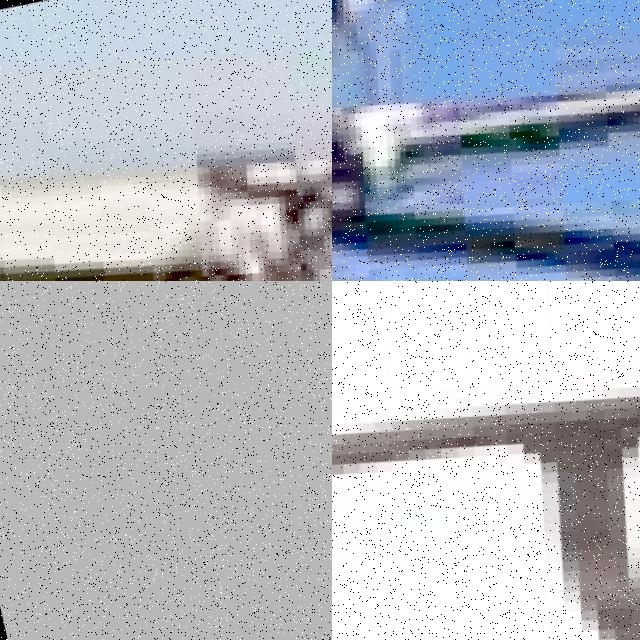0: (0, 0, 332, 281), (332, 0, 640, 281)
drone: (332, 281, 640, 640)
